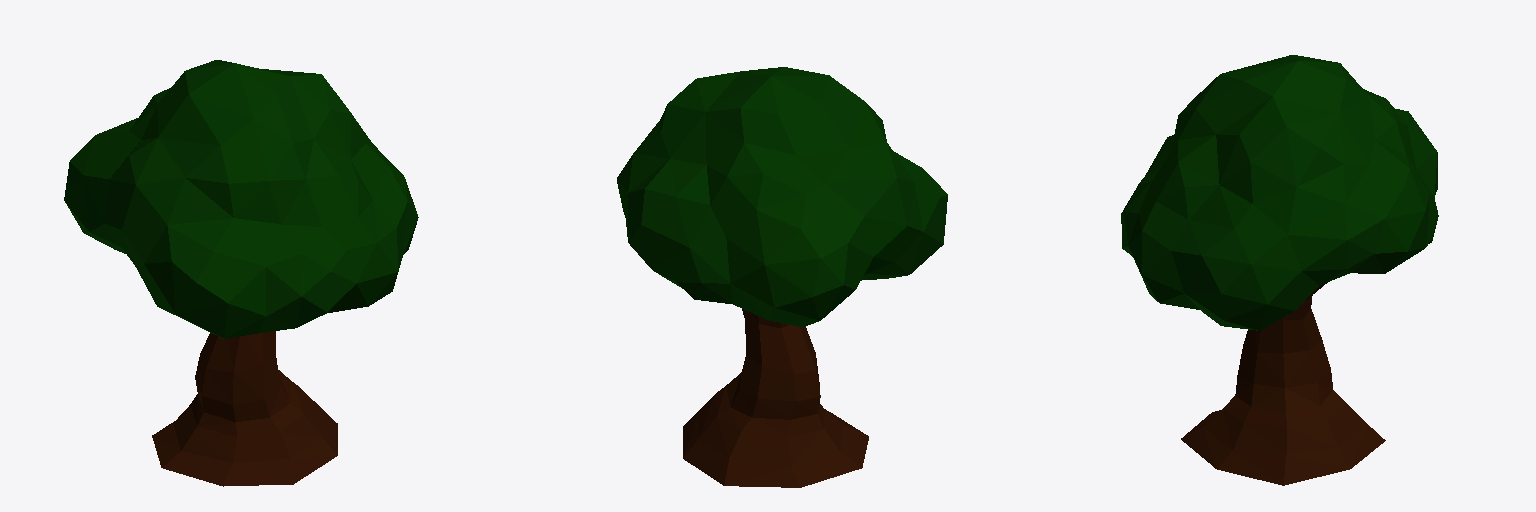
The model's file is tree2.obj.
3 renders of one model, left to right at view 1: azimuth 30°, elevation 25°; view 2: azimuth 150°, elevation 25°; view 3: azimuth 270°, elevation 25°, orthographic.
Parts seen in each view (by area): view 1: LowPoly_Tree_02_Cube.000; view 2: LowPoly_Tree_02_Cube.000; view 3: LowPoly_Tree_02_Cube.000.
Boxes of the visible parts, x1=… form: LowPoly_Tree_02_Cube.000: x1=64, y1=60, x2=418, y2=486; LowPoly_Tree_02_Cube.000: x1=617, y1=67, x2=947, y2=487; LowPoly_Tree_02_Cube.000: x1=1121, y1=55, x2=1438, y2=485.
Bounding box in the file's own units: 0.6857 × 0.9061 × 0.6892.